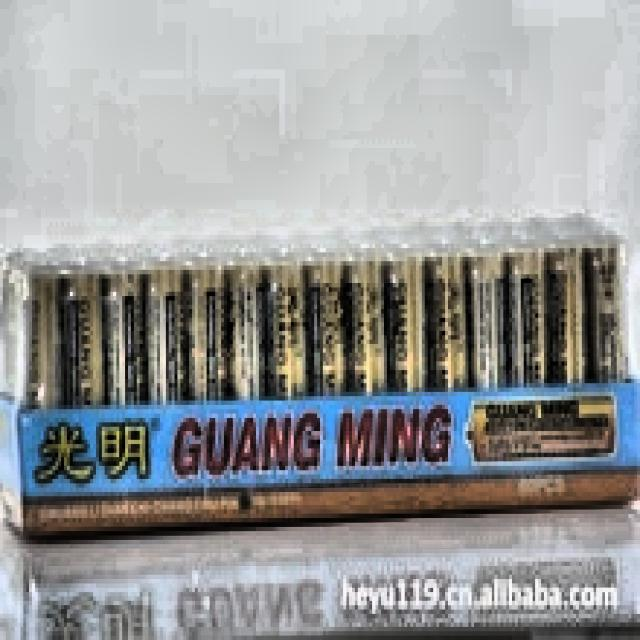Non-Valuable Waste - Batteries: (25, 241, 624, 407)
